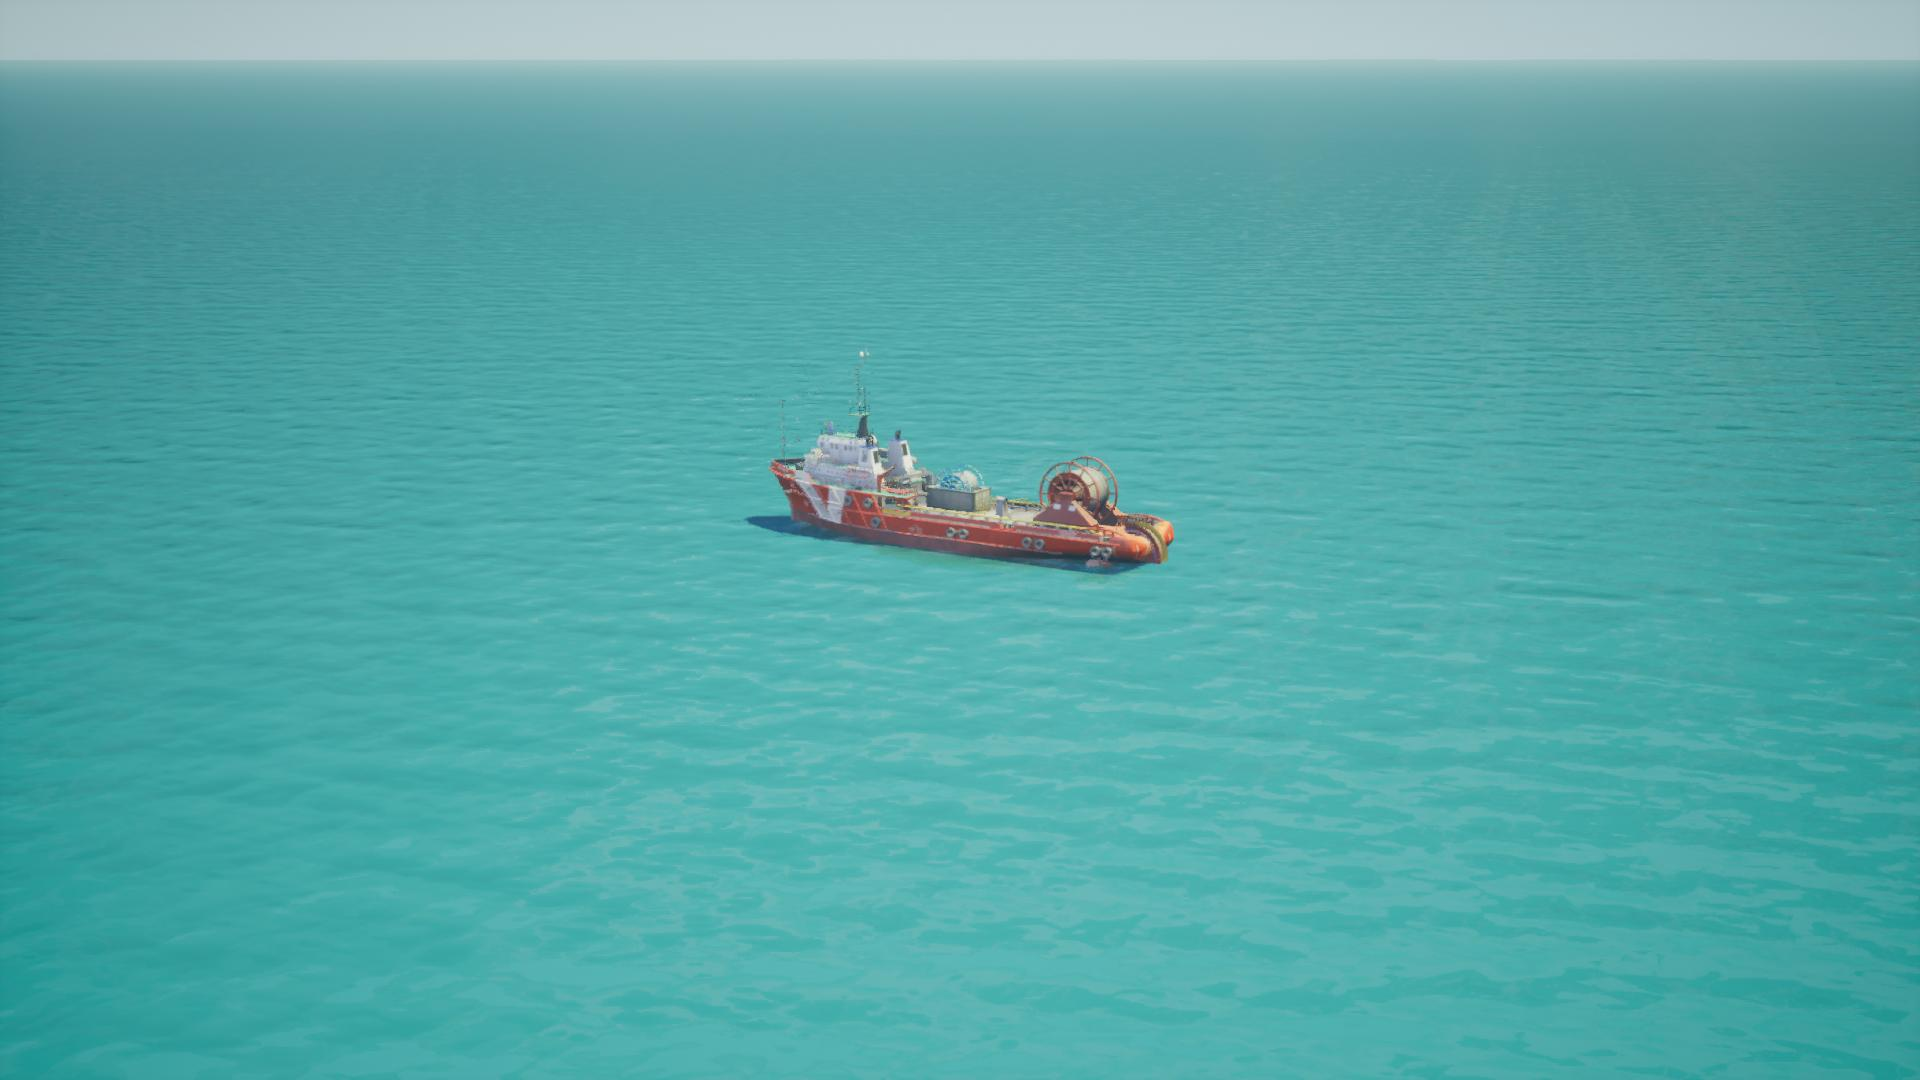Tug Boat: (752, 347, 1174, 583)
